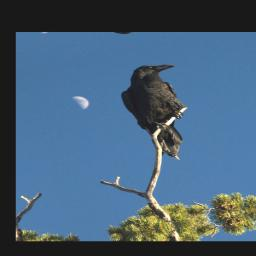Crow: (108, 59, 219, 167)
